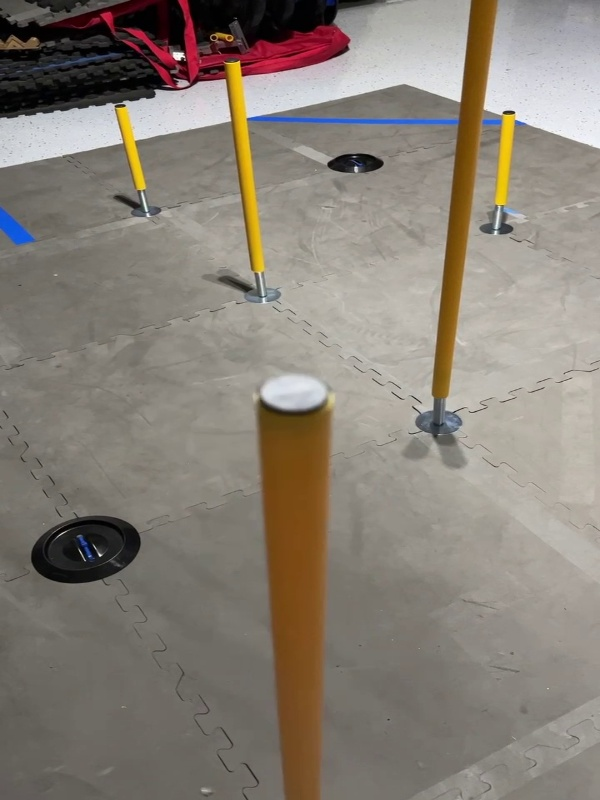top: (247, 368, 338, 421)
